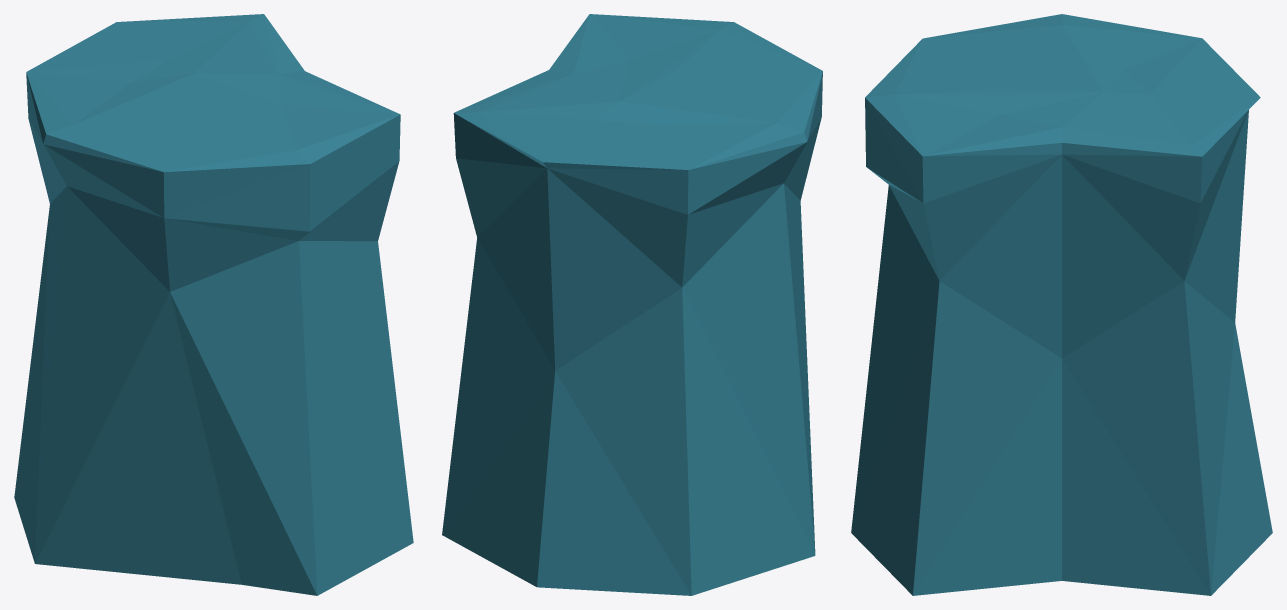
File: PlatformSimple.fbx
The picture shows the model from 3 angles, left to right: view 1: azimuth 30°, elevation 25°; view 2: azimuth 150°, elevation 25°; view 3: azimuth 270°, elevation 25°; orthographic projection. The views are drawn at different scales.
Parts seen in each view (by area): view 1: PlatformSimple3; view 2: PlatformSimple3; view 3: PlatformSimple3.
Boxes of the visible parts, left/top/right/bottom form: PlatformSimple3: left=14, top=14, right=413, bottom=595; PlatformSimple3: left=442, top=14, right=822, bottom=595; PlatformSimple3: left=851, top=14, right=1272, bottom=595.
Bounding box in the file's own units: 8.37 × 11.31 × 9.81.
